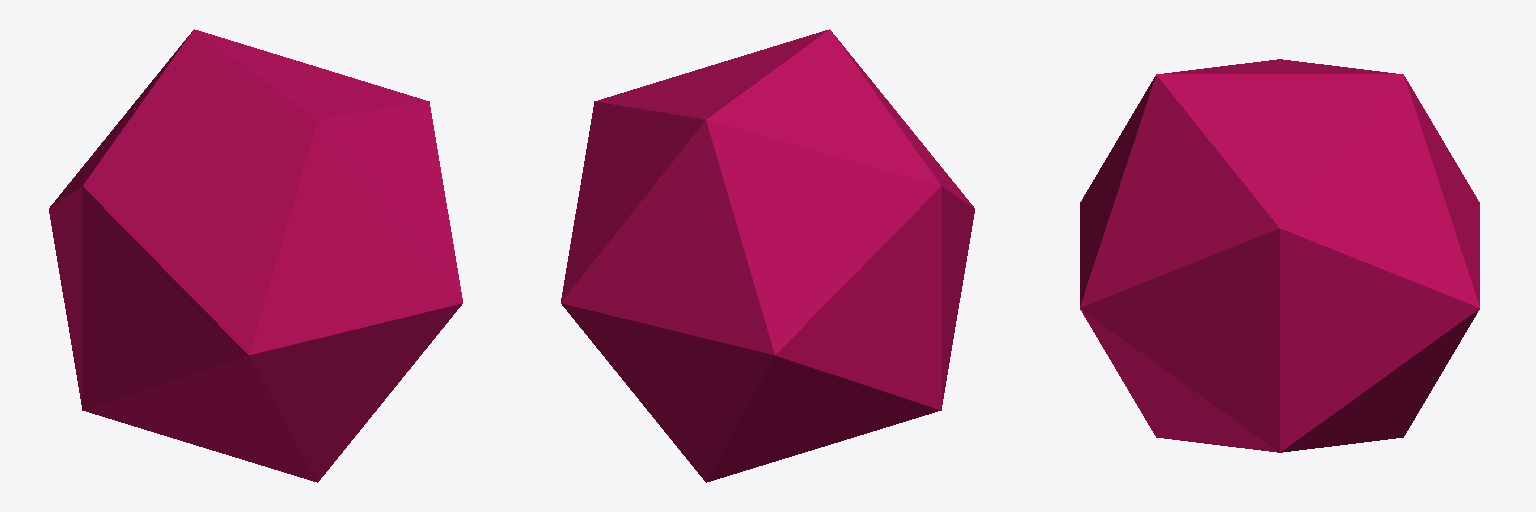
Rendered from icosahedronN.obj.
The picture shows the model from 3 angles: view 1: azimuth 30°, elevation 25°; view 2: azimuth 150°, elevation 25°; view 3: azimuth 270°, elevation 25°; orthographic projection.
Bounding box in the file's own units: 3.24 × 3.24 × 3.24.